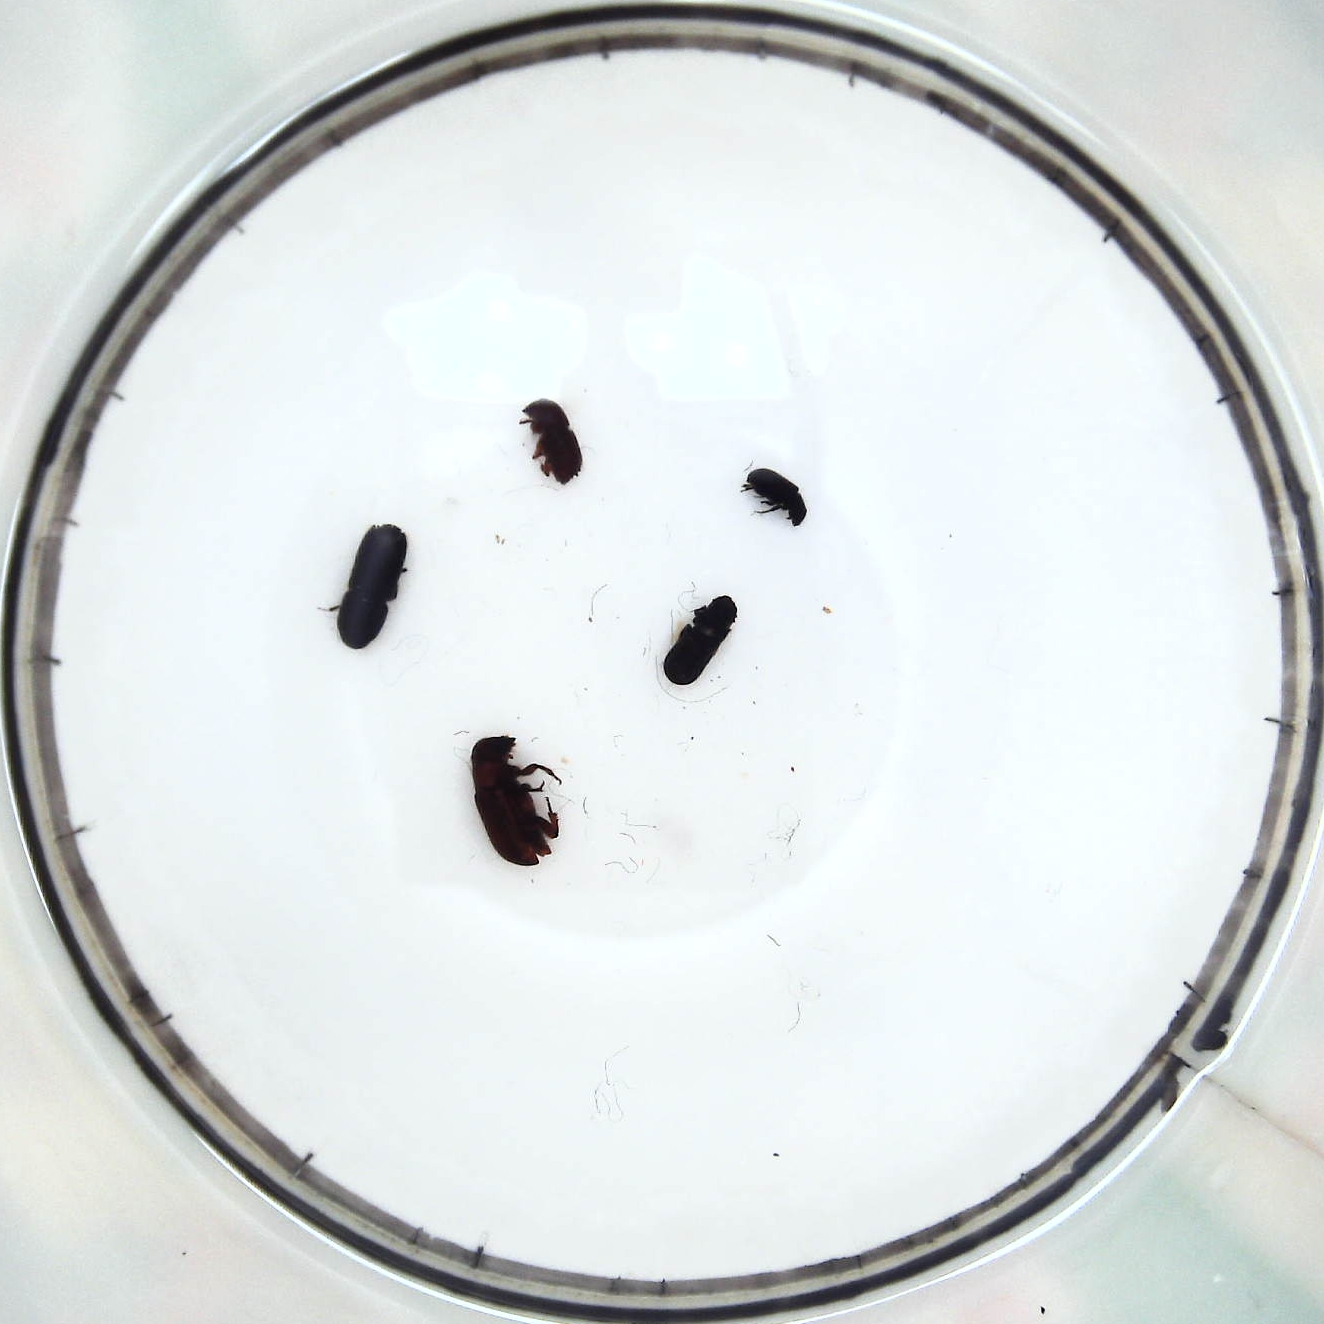Boerner: (331, 517, 413, 660)
Leconte: (468, 729, 559, 864)
Linnaeus: (517, 396, 584, 491)
armandi: (660, 597, 734, 685)
coleoptera: (740, 463, 804, 524)
